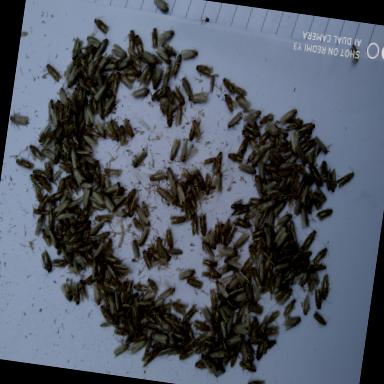pbw: (176, 132, 202, 168), (62, 56, 86, 92), (195, 352, 225, 380), (126, 333, 156, 361), (310, 130, 337, 160), (32, 247, 56, 280), (175, 70, 198, 104), (38, 54, 62, 86), (300, 222, 324, 254), (86, 279, 109, 312), (161, 99, 182, 135), (289, 142, 312, 174), (279, 291, 302, 323), (262, 298, 285, 330), (295, 199, 316, 234), (280, 310, 306, 338), (140, 315, 168, 341), (300, 284, 320, 320), (116, 113, 140, 143), (148, 60, 168, 96), (8, 103, 32, 133), (138, 344, 162, 374), (226, 197, 256, 221), (90, 232, 112, 264), (144, 22, 166, 54), (312, 199, 339, 225), (230, 226, 254, 255), (184, 86, 213, 110), (121, 25, 142, 58), (160, 165, 182, 196), (65, 144, 85, 178), (151, 185, 179, 209), (240, 100, 264, 128), (222, 106, 246, 134), (108, 38, 132, 66), (203, 223, 224, 254), (125, 235, 146, 266), (143, 244, 169, 269), (151, 42, 178, 66), (292, 116, 320, 139), (90, 33, 110, 65), (56, 278, 78, 307), (310, 179, 332, 208), (172, 96, 190, 131), (188, 167, 209, 197), (158, 224, 179, 254), (85, 189, 110, 214), (236, 354, 262, 378), (166, 296, 192, 320), (152, 284, 176, 310), (146, 328, 172, 352), (128, 148, 152, 174), (271, 206, 294, 233), (126, 83, 153, 106), (42, 97, 62, 128), (290, 167, 310, 198), (308, 310, 336, 332), (144, 164, 172, 186), (316, 271, 334, 305), (66, 278, 84, 312), (243, 241, 264, 270), (208, 166, 227, 198), (192, 57, 216, 82), (89, 13, 113, 38), (148, 232, 168, 262), (274, 282, 294, 312), (112, 121, 132, 151), (222, 329, 248, 352), (335, 166, 358, 192), (162, 238, 188, 261), (109, 322, 136, 344), (207, 148, 225, 181), (228, 316, 255, 338), (165, 208, 192, 230), (105, 188, 132, 210), (165, 133, 184, 164), (258, 220, 277, 251), (205, 288, 226, 316), (154, 342, 182, 363), (161, 83, 182, 111), (282, 110, 306, 134), (224, 146, 248, 170), (108, 285, 126, 317), (284, 124, 302, 156), (198, 168, 216, 200), (127, 292, 145, 324), (256, 176, 280, 200), (82, 28, 106, 52), (218, 74, 240, 100), (254, 194, 280, 216), (188, 317, 214, 339), (93, 315, 123, 334), (129, 28, 148, 58), (93, 50, 113, 78), (344, 40, 364, 68), (110, 336, 130, 364), (306, 256, 334, 276), (308, 286, 328, 314), (178, 302, 198, 330), (25, 141, 48, 165), (154, 318, 178, 341), (173, 264, 198, 286), (155, 25, 177, 50), (12, 153, 38, 174), (246, 311, 264, 341), (270, 221, 290, 248), (120, 184, 138, 214), (199, 264, 226, 284), (64, 88, 82, 118), (79, 102, 98, 130), (112, 312, 131, 340), (231, 92, 254, 115), (130, 278, 154, 300), (68, 32, 84, 65), (68, 251, 92, 273), (238, 339, 260, 363), (35, 142, 59, 164), (242, 201, 264, 225), (228, 80, 252, 102), (52, 194, 74, 218), (175, 343, 196, 368), (167, 51, 185, 80), (44, 226, 64, 252), (91, 80, 111, 106), (46, 254, 72, 274), (64, 206, 84, 232), (78, 150, 104, 170), (278, 102, 298, 128), (216, 216, 232, 248), (85, 254, 101, 286), (185, 212, 201, 244), (252, 334, 268, 366), (321, 166, 338, 196), (195, 212, 212, 242), (170, 84, 191, 108), (169, 328, 193, 349), (74, 278, 92, 306), (282, 259, 300, 287), (123, 194, 141, 222), (36, 224, 54, 252), (294, 245, 314, 270), (215, 242, 240, 262), (178, 43, 203, 63), (258, 336, 283, 356), (246, 265, 265, 291), (241, 280, 259, 307), (214, 316, 232, 343), (260, 118, 282, 140), (76, 238, 98, 260), (72, 74, 94, 96), (258, 134, 280, 156), (213, 279, 236, 300), (142, 274, 162, 298), (216, 302, 240, 322), (218, 90, 238, 114), (262, 260, 278, 290), (270, 266, 286, 296), (318, 156, 334, 186), (305, 162, 325, 186), (89, 153, 105, 183), (98, 97, 118, 121), (90, 118, 110, 142), (310, 242, 330, 266), (64, 227, 88, 247), (232, 302, 249, 330), (145, 0, 173, 17), (136, 194, 154, 220), (60, 174, 78, 200), (183, 177, 201, 203), (254, 258, 270, 287), (66, 107, 82, 136), (100, 258, 121, 280), (124, 43, 146, 64), (255, 109, 276, 131), (221, 249, 245, 268), (236, 159, 260, 178), (204, 345, 229, 363), (297, 176, 312, 206), (135, 224, 153, 249), (301, 192, 317, 220), (306, 138, 320, 170), (284, 216, 300, 244), (182, 274, 204, 294), (43, 205, 58, 234), (100, 236, 114, 267), (274, 228, 292, 252), (138, 247, 156, 271), (64, 128, 82, 152), (302, 274, 320, 298), (33, 122, 51, 146), (26, 172, 46, 193), (246, 136, 266, 157), (128, 214, 148, 235), (149, 83, 168, 105), (56, 88, 72, 114), (296, 266, 312, 292), (254, 160, 270, 186), (198, 256, 224, 272), (76, 84, 92, 110), (122, 314, 138, 340), (243, 299, 266, 317), (250, 145, 265, 172), (118, 65, 145, 80), (204, 70, 219, 97), (270, 196, 286, 221), (102, 180, 122, 200), (56, 242, 74, 264), (54, 208, 76, 226), (232, 216, 254, 234), (276, 158, 298, 176), (230, 287, 252, 305), (98, 166, 126, 180), (243, 146, 259, 170), (266, 244, 282, 268), (134, 294, 158, 310), (34, 192, 50, 216), (293, 128, 312, 148), (286, 236, 306, 255), (213, 306, 232, 326), (106, 117, 124, 138), (224, 273, 242, 294), (108, 70, 122, 97), (237, 127, 262, 142), (180, 194, 197, 216), (99, 192, 116, 214), (84, 58, 98, 84), (40, 158, 54, 184), (264, 150, 284, 168), (260, 323, 280, 341), (50, 137, 68, 157), (36, 174, 54, 194), (246, 332, 268, 348), (262, 160, 284, 176), (30, 213, 44, 238), (160, 68, 172, 97), (90, 212, 114, 226), (178, 166, 196, 184), (147, 296, 165, 314), (85, 176, 101, 196), (50, 124, 63, 148), (224, 310, 237, 334), (190, 118, 204, 140), (48, 166, 62, 188), (242, 373, 270, 384), (282, 172, 296, 194), (66, 194, 85, 210), (248, 231, 268, 246), (284, 246, 304, 261), (80, 223, 93, 246), (200, 152, 217, 169), (112, 210, 130, 226), (278, 251, 298, 265), (80, 132, 97, 148), (30, 167, 49, 181), (93, 68, 105, 90), (80, 188, 90, 212), (228, 352, 239, 372), (54, 219, 64, 240), (80, 140, 94, 155), (30, 207, 48, 217), (82, 128, 100, 138)
